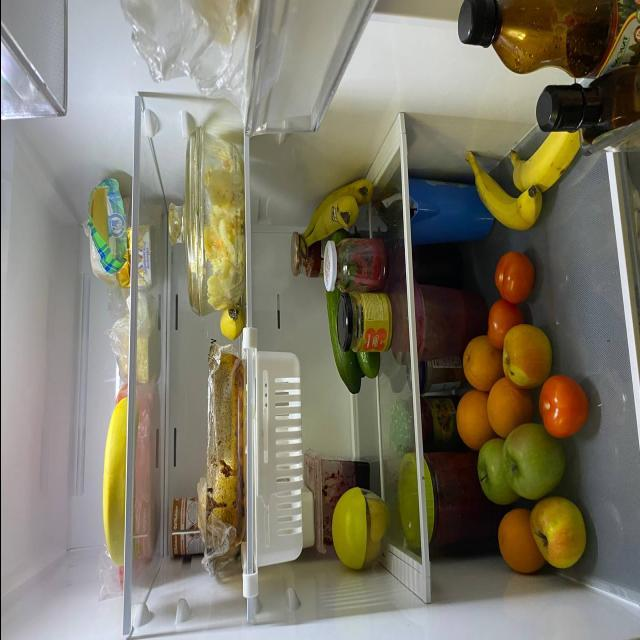Apple: (505, 424, 563, 502), (533, 501, 592, 571), (502, 324, 554, 382), (476, 436, 515, 506)
Banana: (458, 150, 543, 232), (97, 398, 136, 572), (502, 124, 582, 198), (295, 170, 370, 248), (211, 302, 241, 338)
Cucumber: (327, 227, 358, 397), (349, 338, 381, 390)
Orange: (498, 504, 542, 575), (486, 373, 531, 439), (461, 329, 505, 392), (451, 387, 486, 452)
Tomato: (540, 361, 588, 444), (494, 246, 537, 304), (483, 300, 526, 346)
